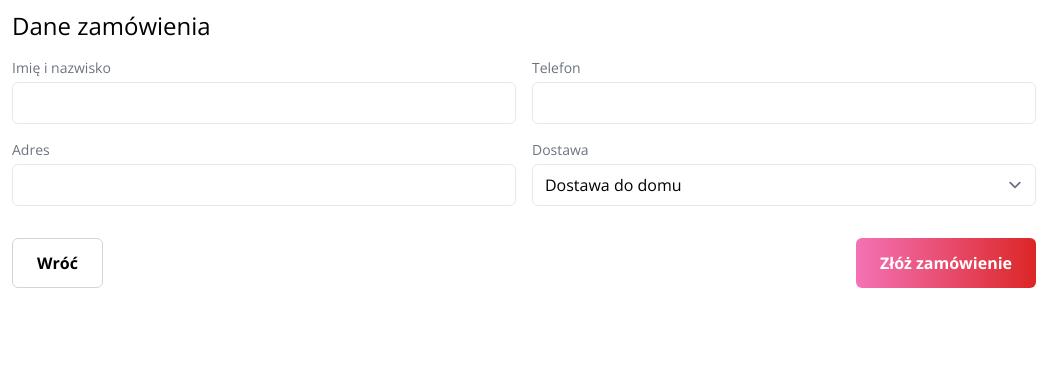
CheckoutForm.vue › shows pickup location when delivery type is pickup
Select "Odbiór osobisty" in the dropdown with id "delivery-type" at (784, 185), box [532,164,1036,206]
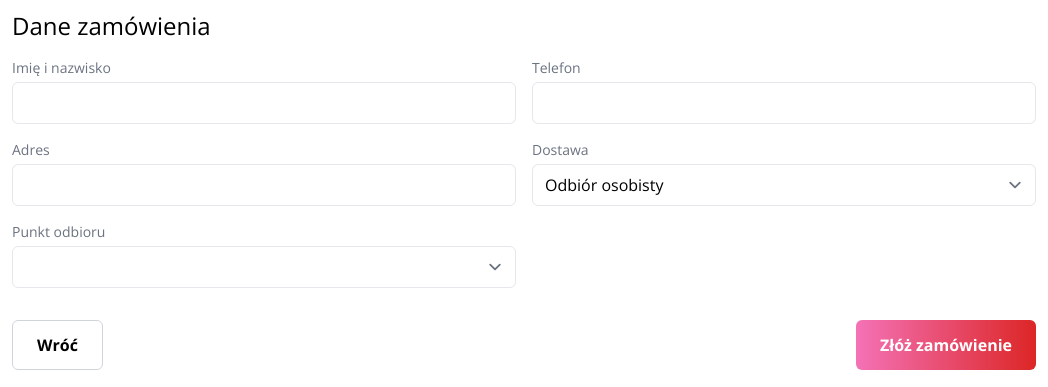
Check: the dropdown labelled "Punkt odbioru" is shown, box [12,246,516,288]
